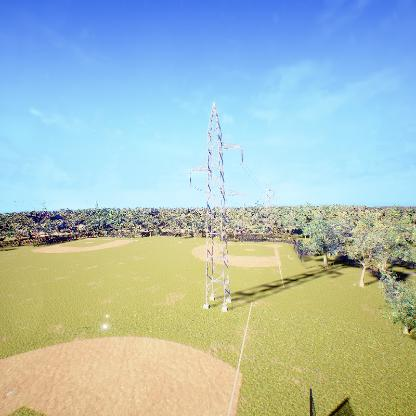tower: (186, 105, 248, 312)
